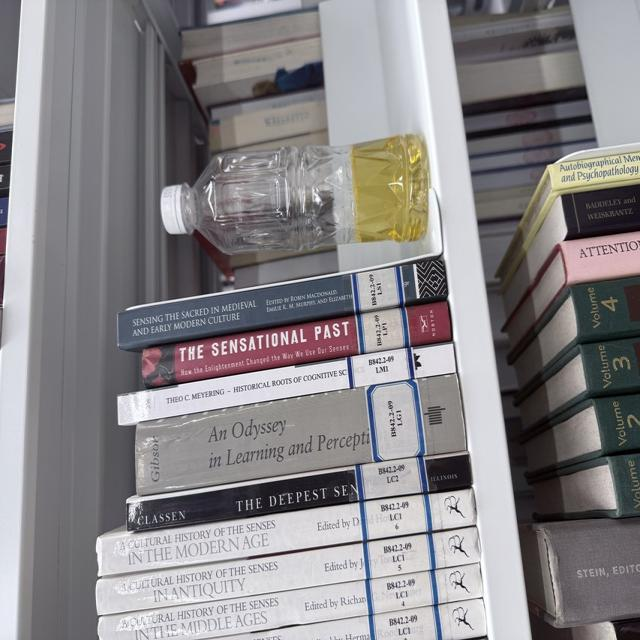low: (161, 134, 429, 253)
